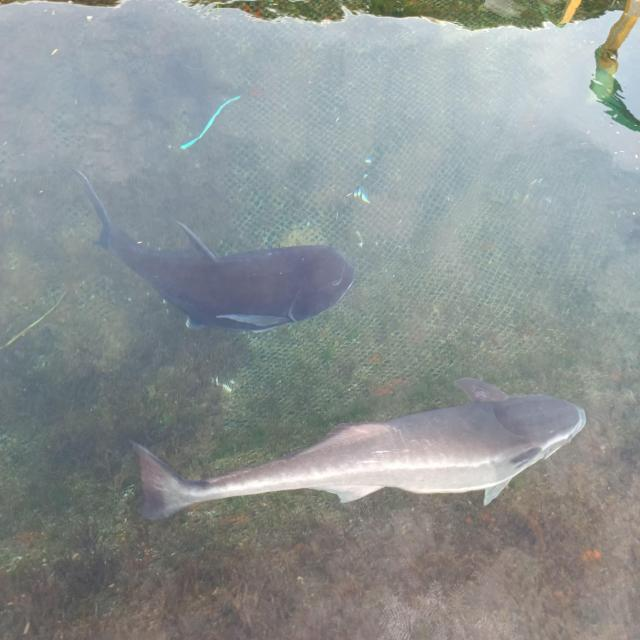ikan: (129, 375, 587, 522), (71, 166, 355, 334)
